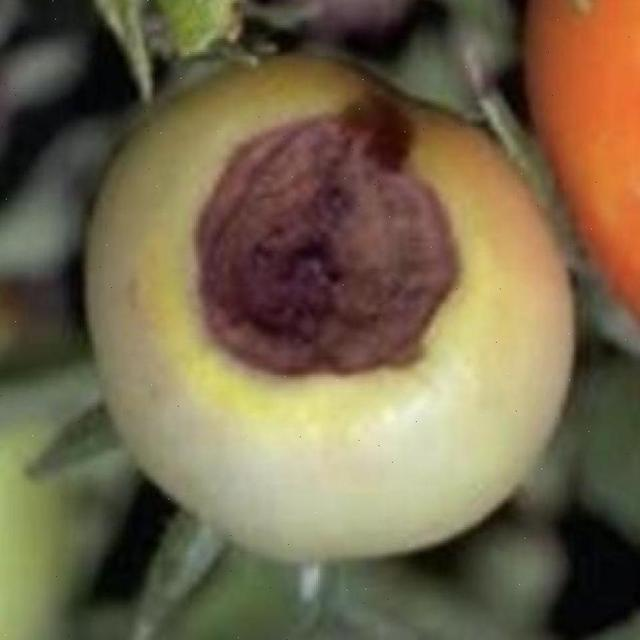Blossom End Rot Fruit: (125, 65, 308, 260)
